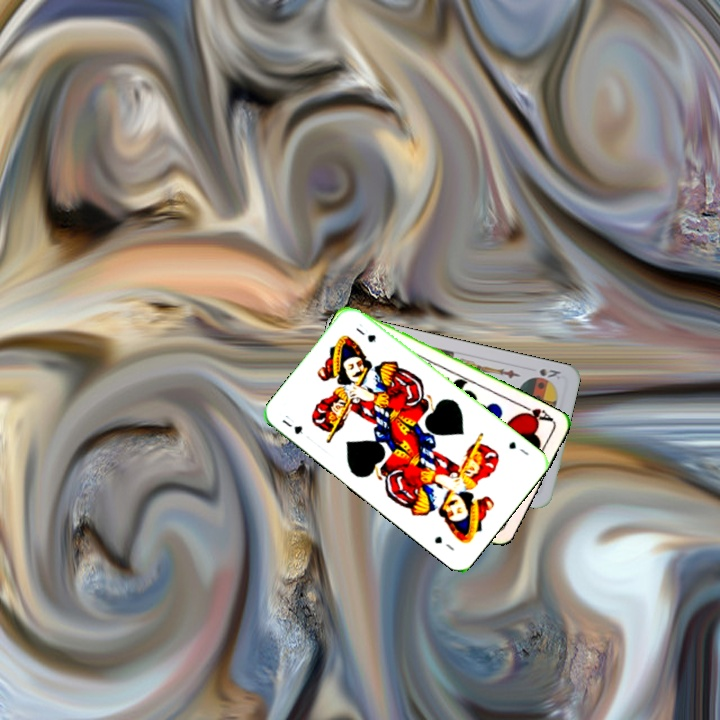GU: (278, 415, 305, 437), (505, 437, 531, 458)
HA: (516, 400, 556, 426)
SK: (535, 364, 563, 384)
